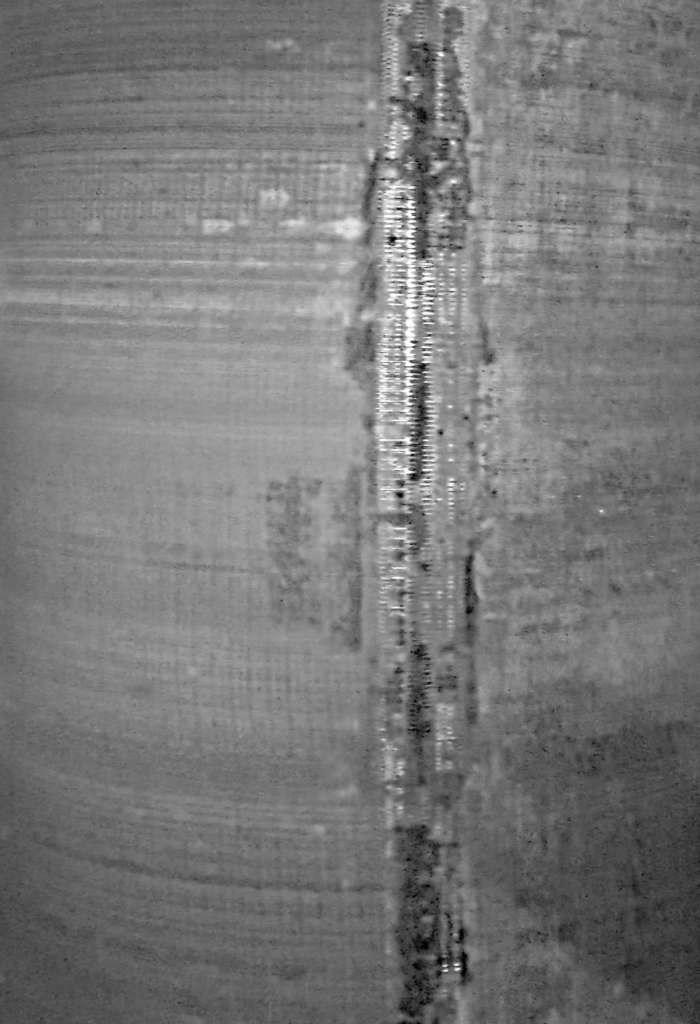splice: (349, 2, 510, 1022)
